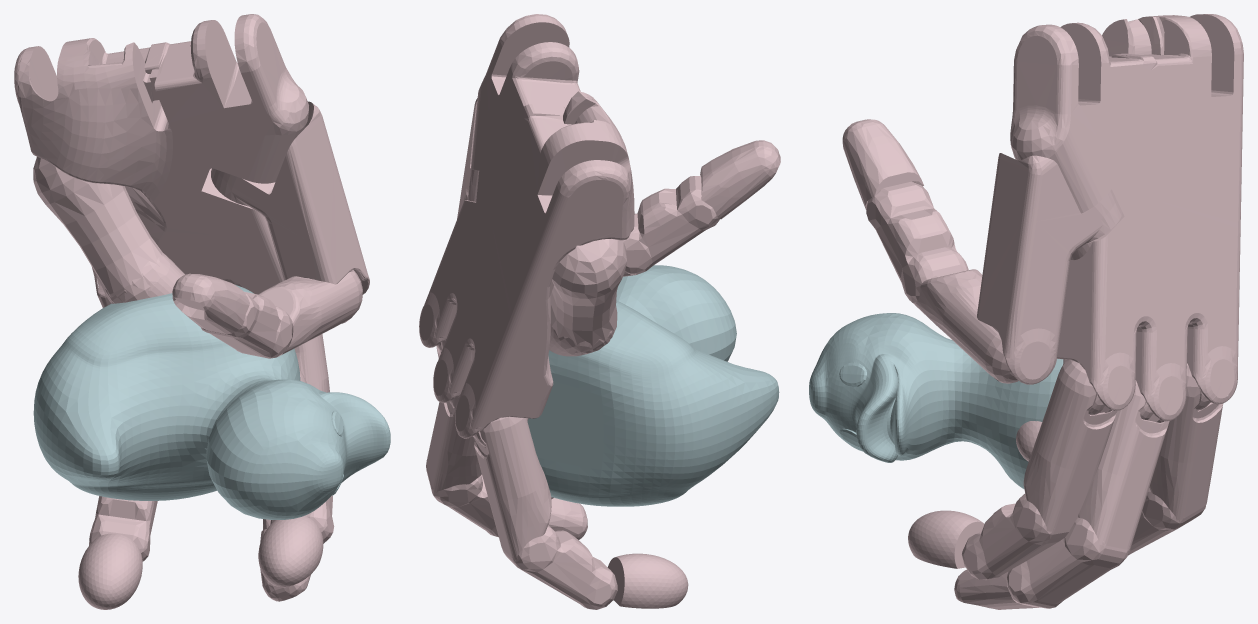
File: grasp_1.glb
The picture shows the model from 3 angles, left to right: view 1: azimuth 30°, elevation 25°; view 2: azimuth 150°, elevation 25°; view 3: azimuth 270°, elevation 25°; orthographic projection. The views are drawn at different scales.
Visible parts, largest first — view 1: world; view 2: world; view 3: world.
Part boxes in pixels (box(x1,y1,x2,y2)): world: box(14, 14, 390, 609); world: box(419, 14, 780, 609); world: box(809, 14, 1243, 609).
Size of the model in its own units: 0.1088 by 0.1874 by 0.127.
